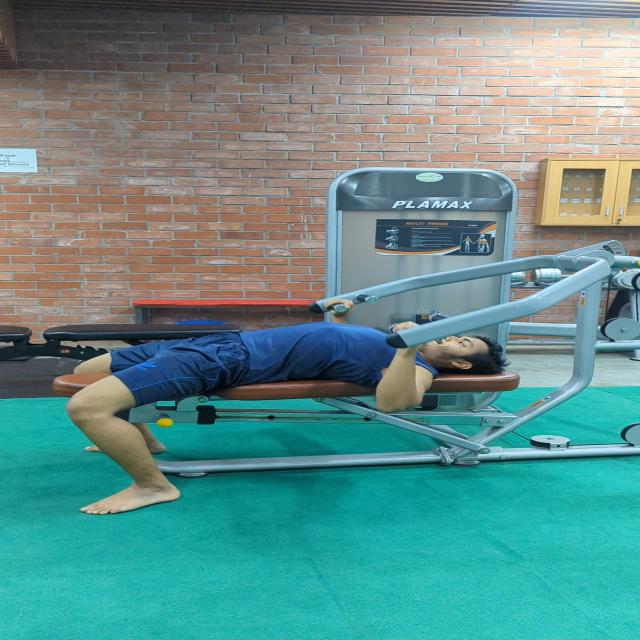Normal_BrenchPress: (39, 267, 536, 522)
